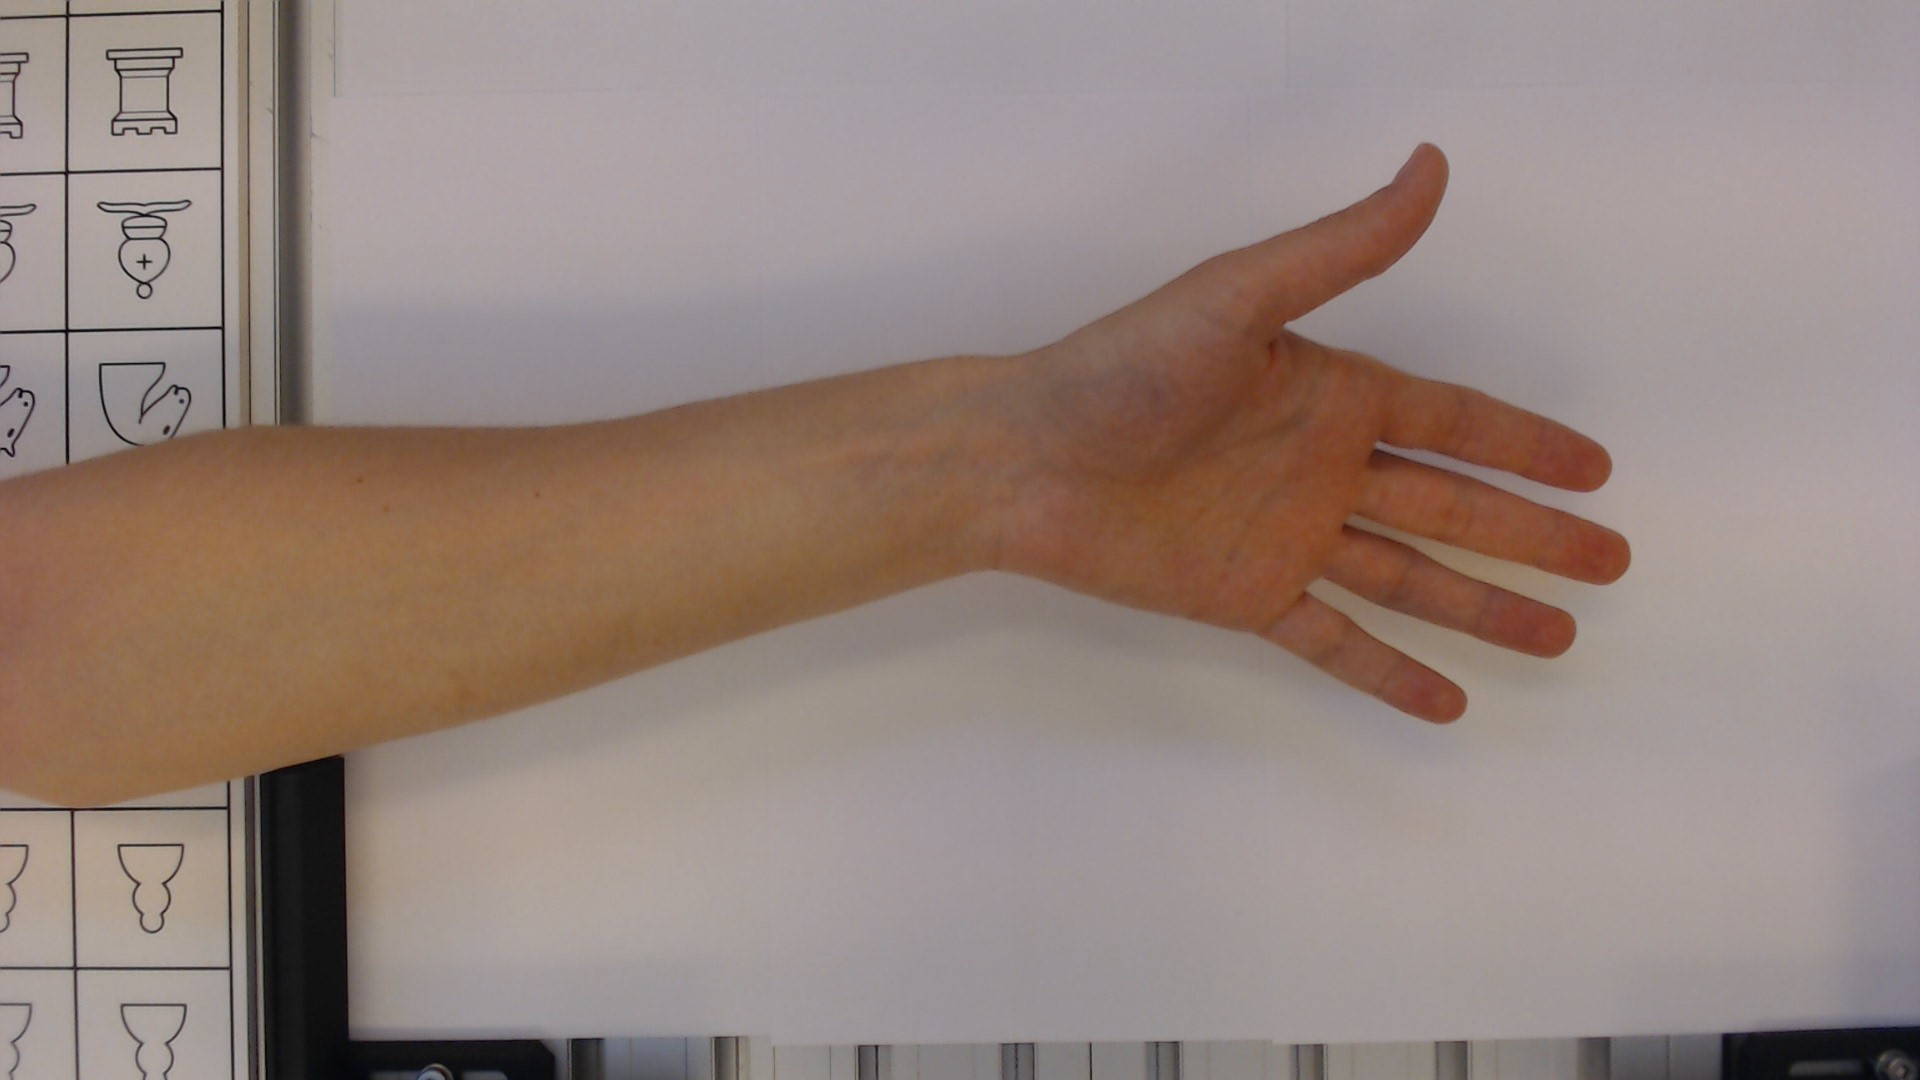Palm: (1021, 255, 1396, 705)
